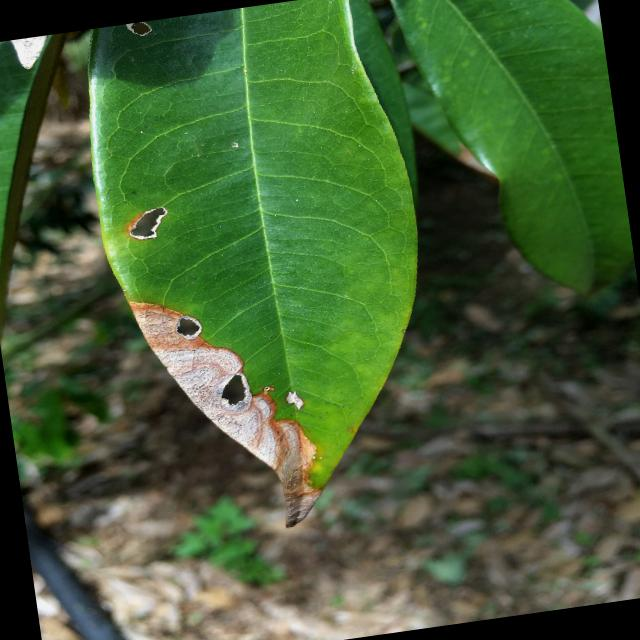Leaf Blight: (65, 0, 467, 556)
